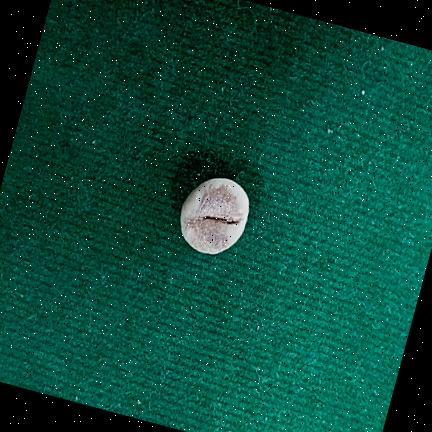immature: (180, 178, 248, 254)
